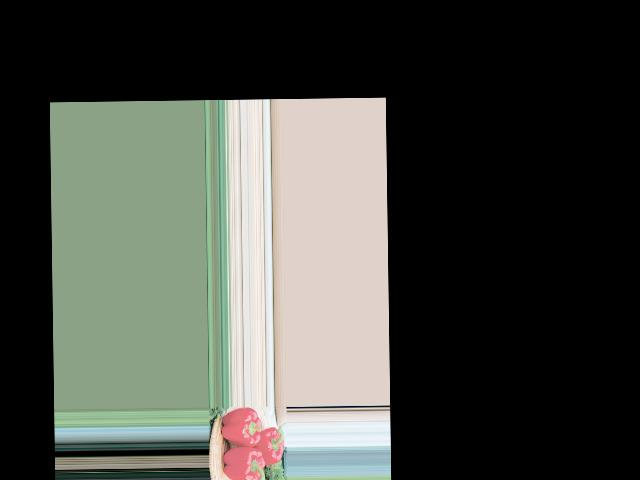bell_pepper: (217, 441, 265, 480)
